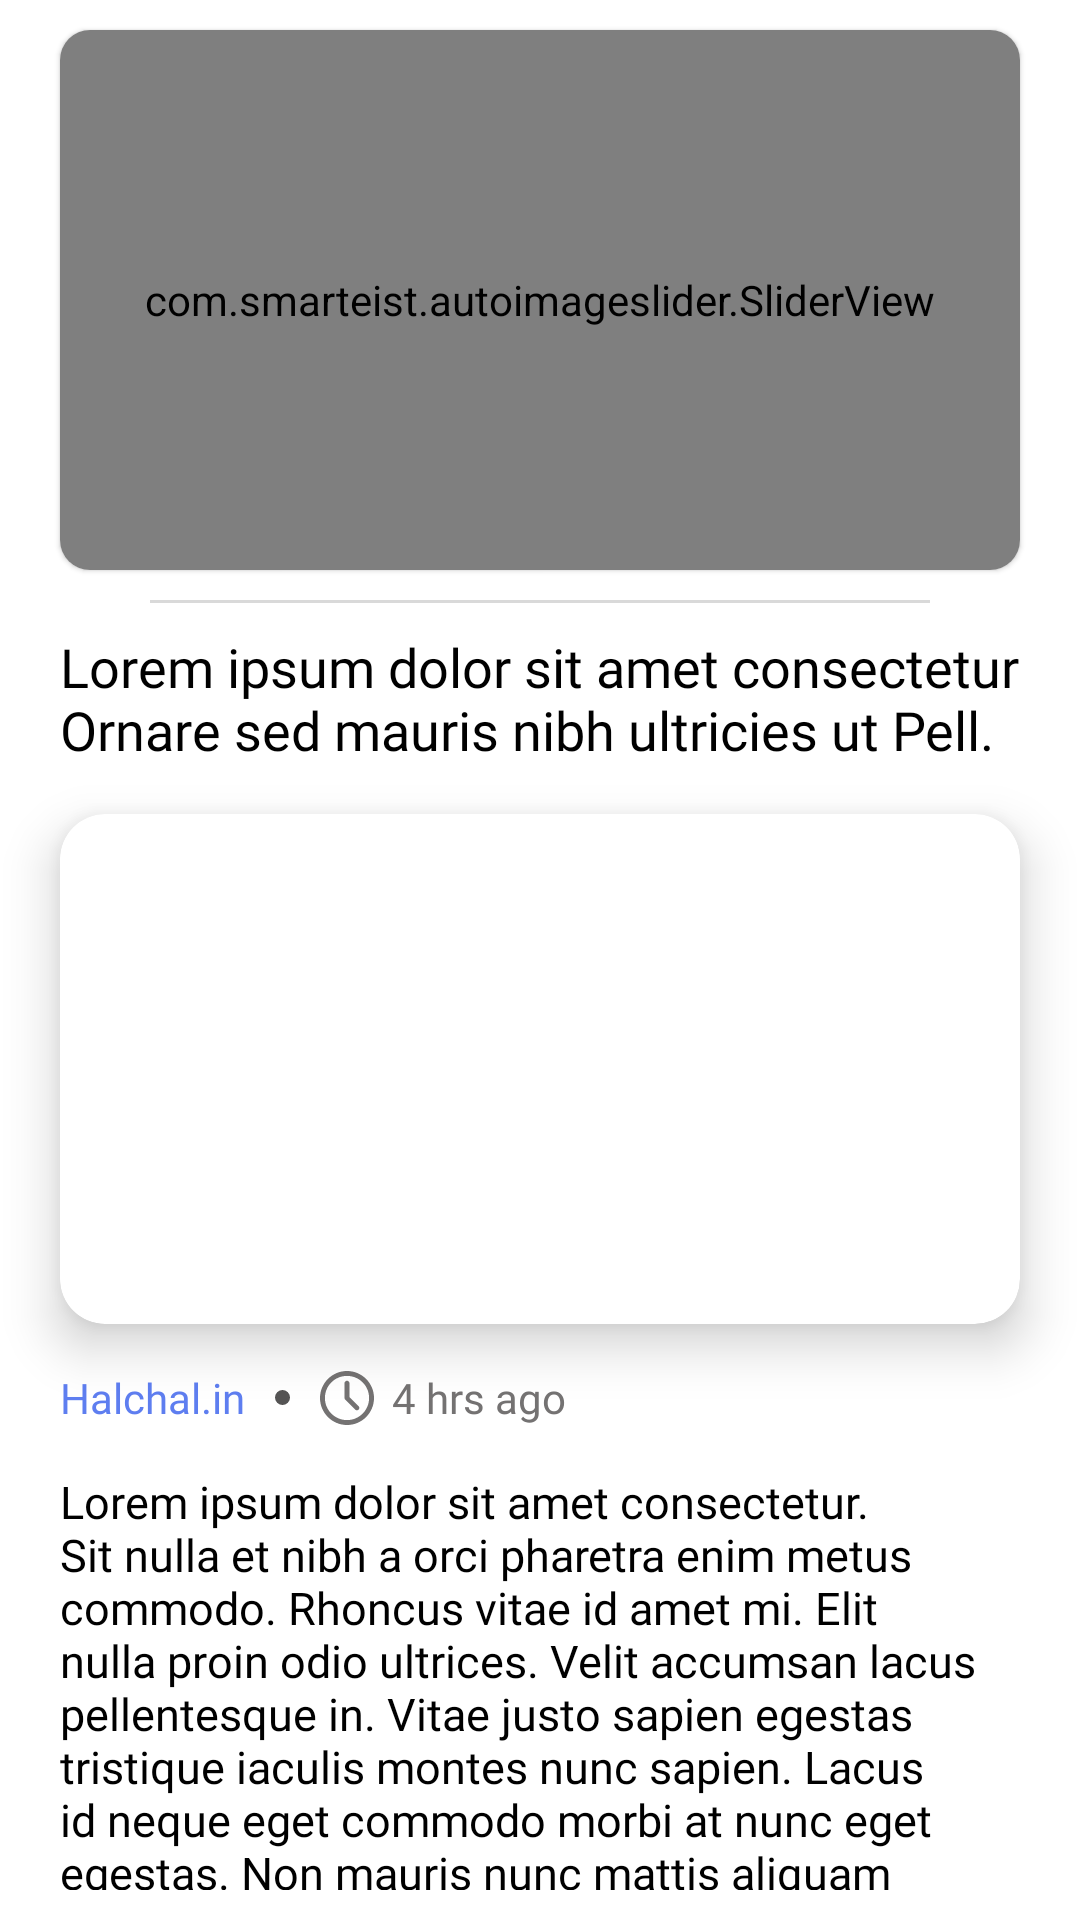

Named icons in this screenshot (1080 × 1920) and their bounding boxes, (x1, y1, x2, y2):
clock: (320, 1371, 374, 1425)
